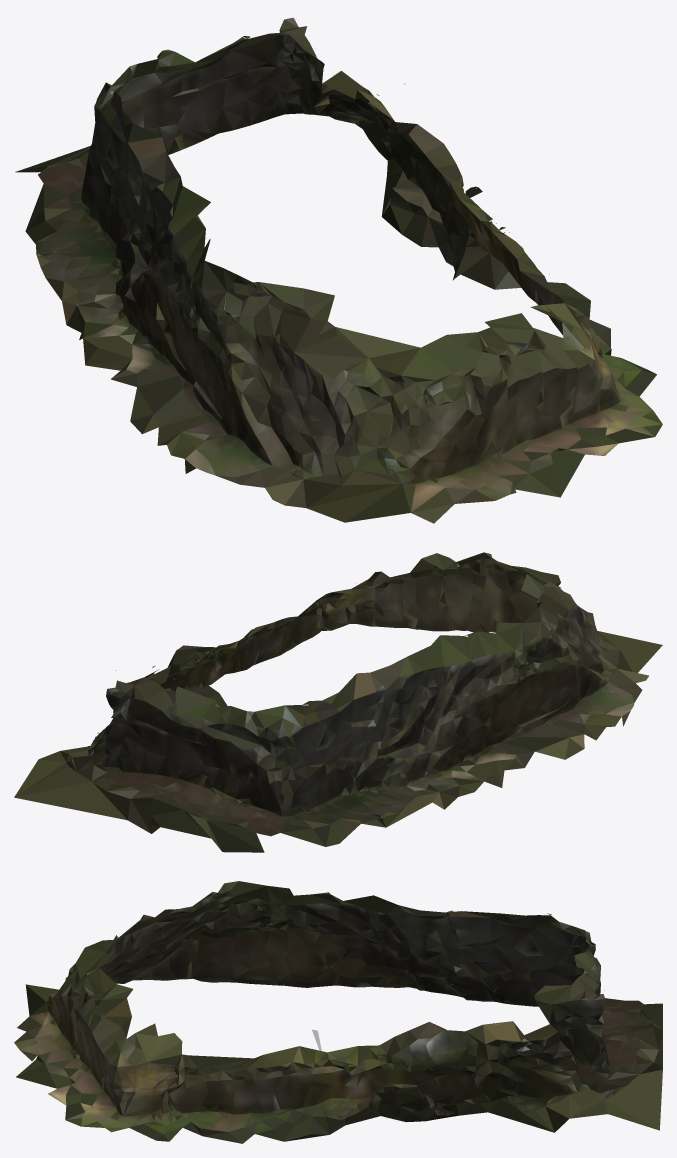
File: HIS_0761_reduced_0.0011.glb
3 views of the same model, one above another, from view 1: azimuth 30°, elevation 25°; view 2: azimuth 150°, elevation 25°; view 3: azimuth 270°, elevation 25° (orthographic). The views are drawn at different scales.
Visible parts, largest first — view 1: HIS_0761; view 2: HIS_0761; view 3: HIS_0761.
Boxes of the visible parts, left/top/right/bottom form: HIS_0761: left=15, top=17, right=662, bottom=523; HIS_0761: left=14, top=552, right=662, bottom=852; HIS_0761: left=14, top=881, right=662, bottom=1143.
Size of the model in its own units: 22.39 by 8.16 by 35.09.
2 materials, 1 textured.
